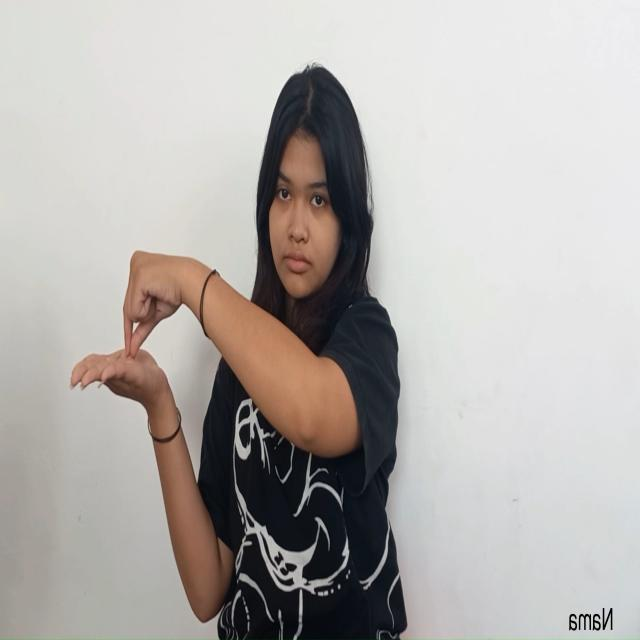Nama -BISINDO-: (69, 250, 195, 410)
